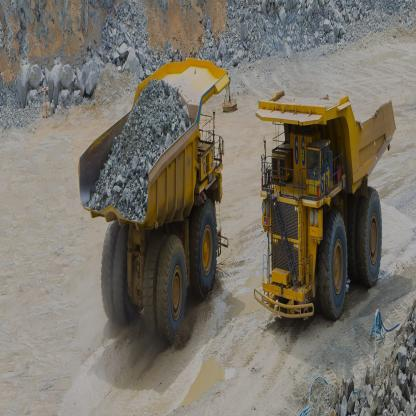dump_truck: (71, 48, 237, 356), (258, 58, 405, 330)
